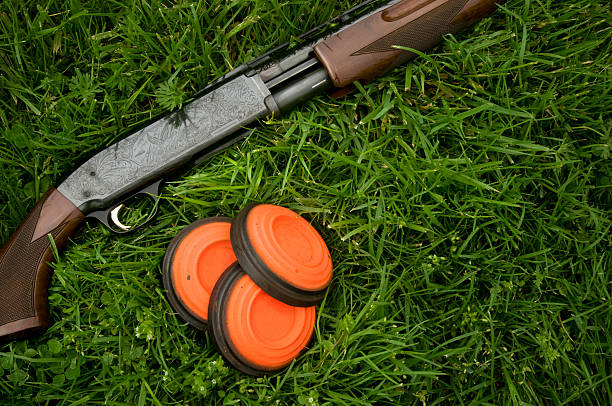shotgun: (1, 1, 455, 339)
